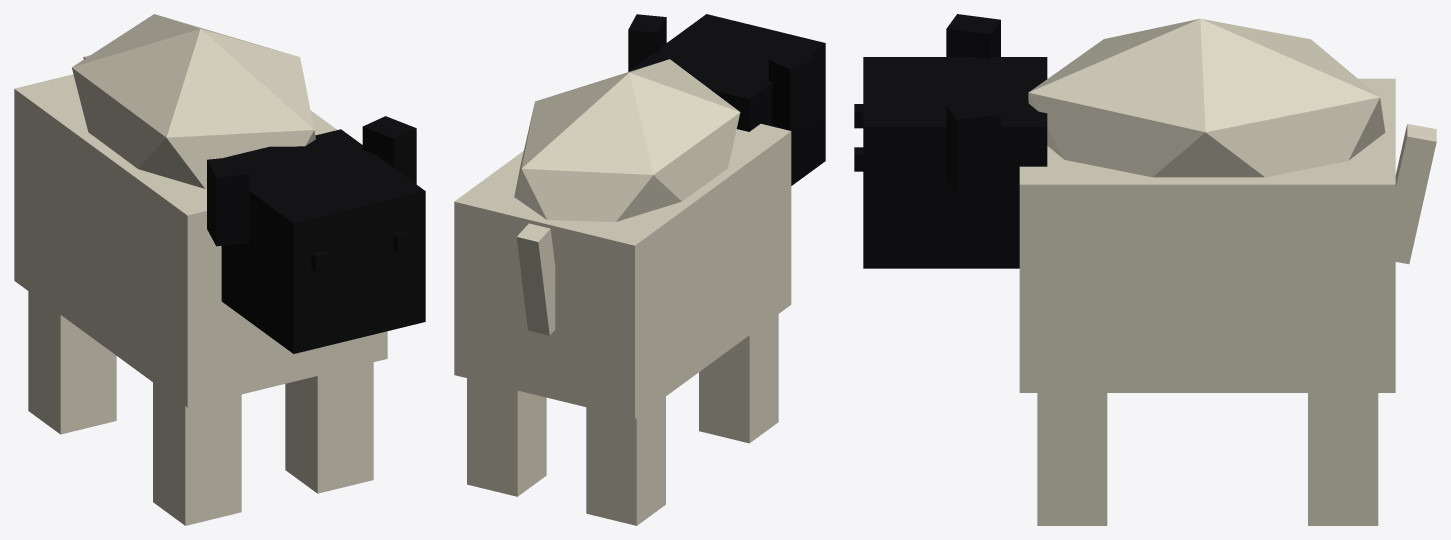
Rendered from sheep.obj.
The picture shows the model from 3 angles, left to right: view 1: azimuth 30°, elevation 25°; view 2: azimuth 150°, elevation 25°; view 3: azimuth 270°, elevation 25°; orthographic projection. The views are drawn at different scales.
Parts seen in each view (by area): view 1: sheep; view 2: sheep; view 3: sheep.
Boxes of the visible parts, x1,y1,x2,y2 form: sheep: (14, 14, 425, 525); sheep: (454, 14, 825, 525); sheep: (854, 14, 1436, 525).
Bounding box in the file's own units: 0.6006 × 1.2 × 1.39.
